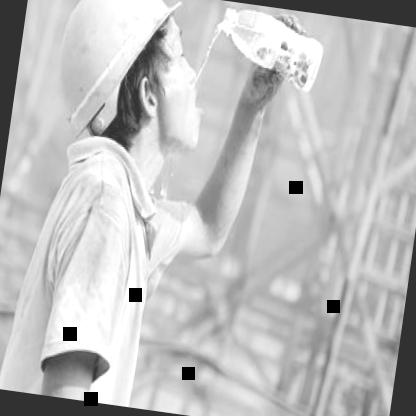helmet: (36, 0, 228, 173)
